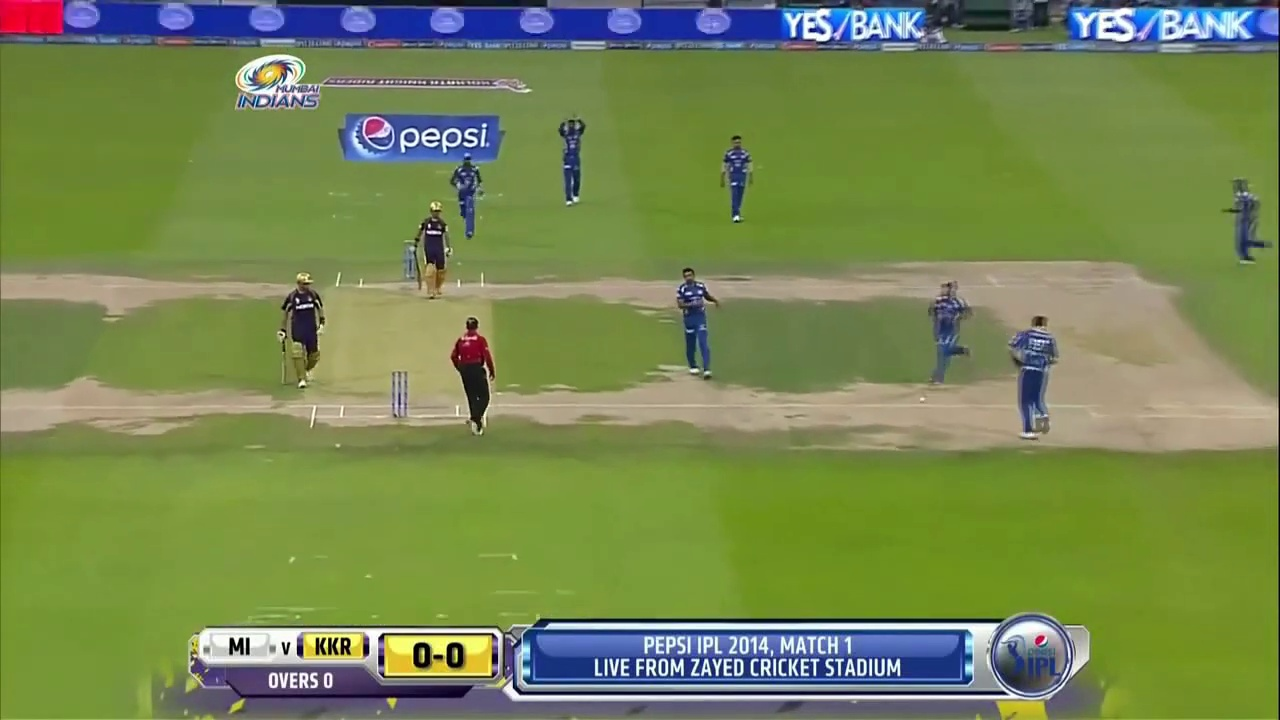bat: (281, 346, 288, 386)
stumps: (390, 369, 410, 419)
